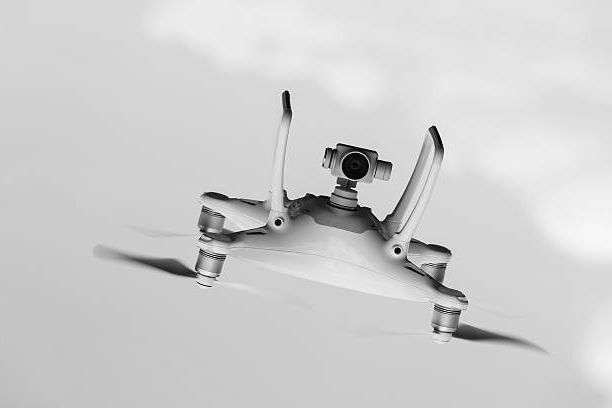Drone: (90, 83, 552, 357)
